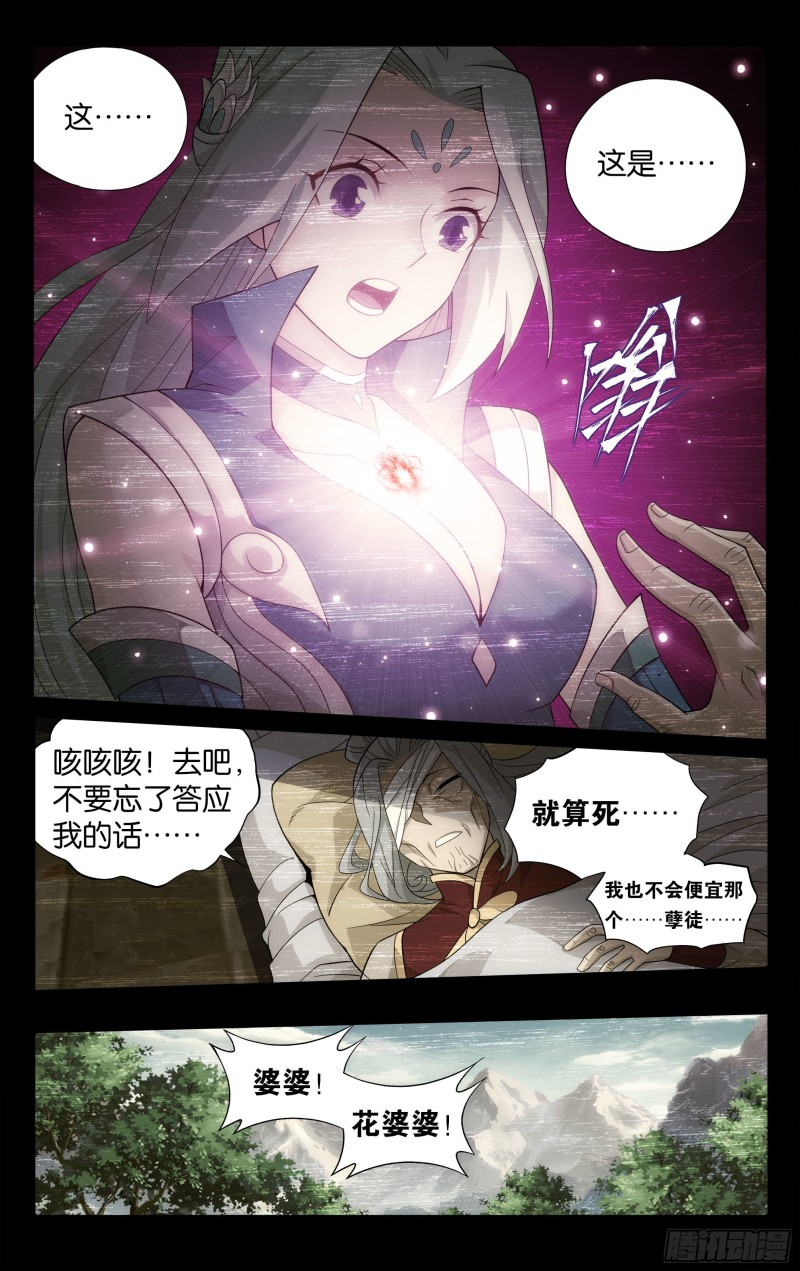boxBomb: (495, 748, 714, 874), (327, 1084, 483, 1180), (582, 868, 756, 952), (201, 1030, 369, 1099)
boxEllipse: (552, 74, 756, 257), (30, 41, 192, 197)
boxWave: (30, 715, 264, 892)
minBox: (24, 35, 780, 745), (18, 703, 777, 996), (21, 1009, 777, 1225)
